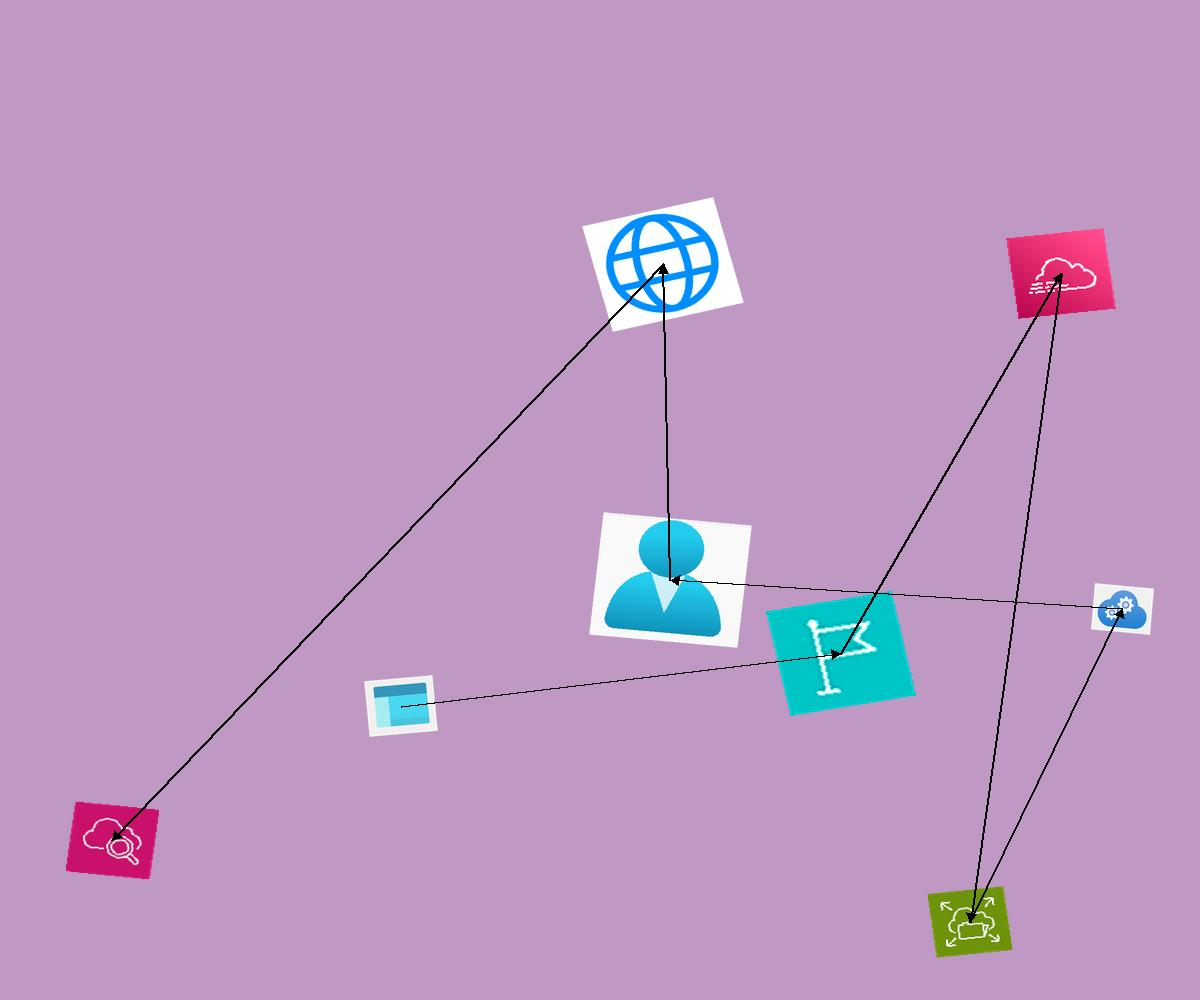AWS-CloudTrail: (1006, 228, 1116, 319)
AWS-CloudWatch: (65, 801, 160, 880)
AWS-EFS: (927, 886, 1013, 958)
AWS-Region: (766, 591, 916, 716)
Azure_cloud_services: (1091, 583, 1154, 635)
Azure_http: (582, 197, 744, 332)
Azure_management-portal: (364, 675, 438, 737)
Azure_users: (589, 512, 752, 648)
